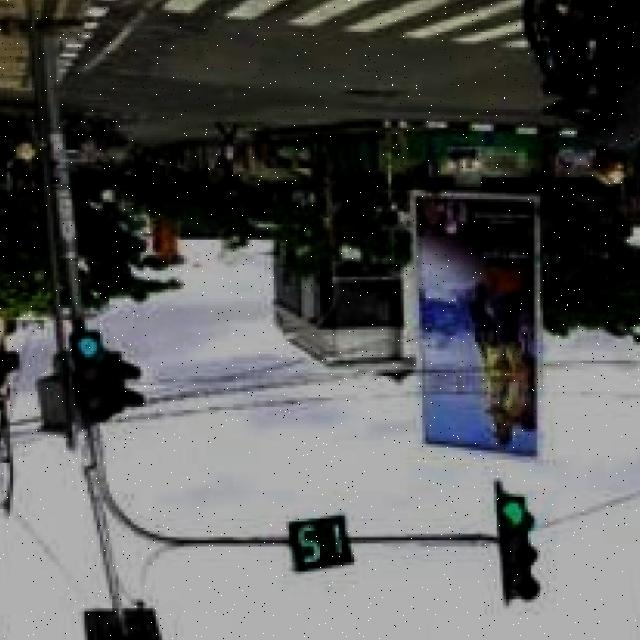Lampu Hijau: (498, 483, 539, 598), (70, 330, 111, 428)
